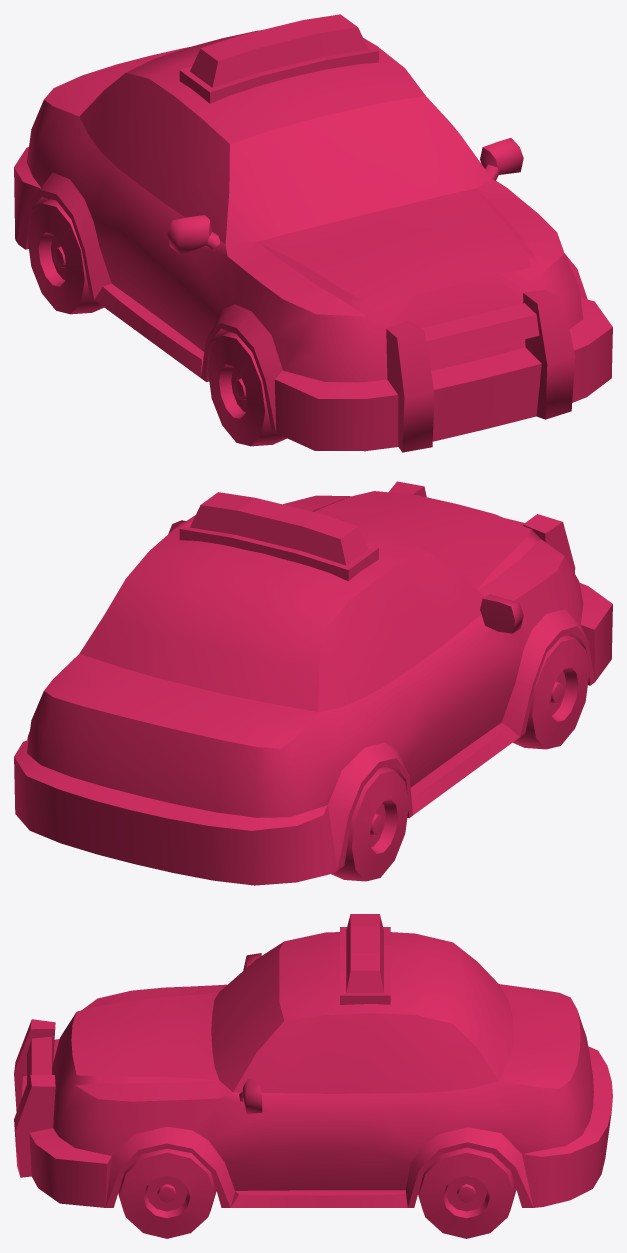
The model's file is Vehicle_Land_PoliceCar.fbx.
3 renders of one model, top to bottom at view 1: azimuth 30°, elevation 25°; view 2: azimuth 150°, elevation 25°; view 3: azimuth 270°, elevation 25°, orthographic. The views are drawn at different scales.
Parts seen in each view (by area): view 1: Vehicle_Land_PoliceCar; view 2: Vehicle_Land_PoliceCar; view 3: Vehicle_Land_PoliceCar.
Part boxes in pixels (x1,y1,x2,y2): Vehicle_Land_PoliceCar: [14, 14, 612, 452]; Vehicle_Land_PoliceCar: [14, 481, 612, 885]; Vehicle_Land_PoliceCar: [14, 914, 612, 1238].
Bounding box in the file's own units: 59.79 × 46.8 × 107.
